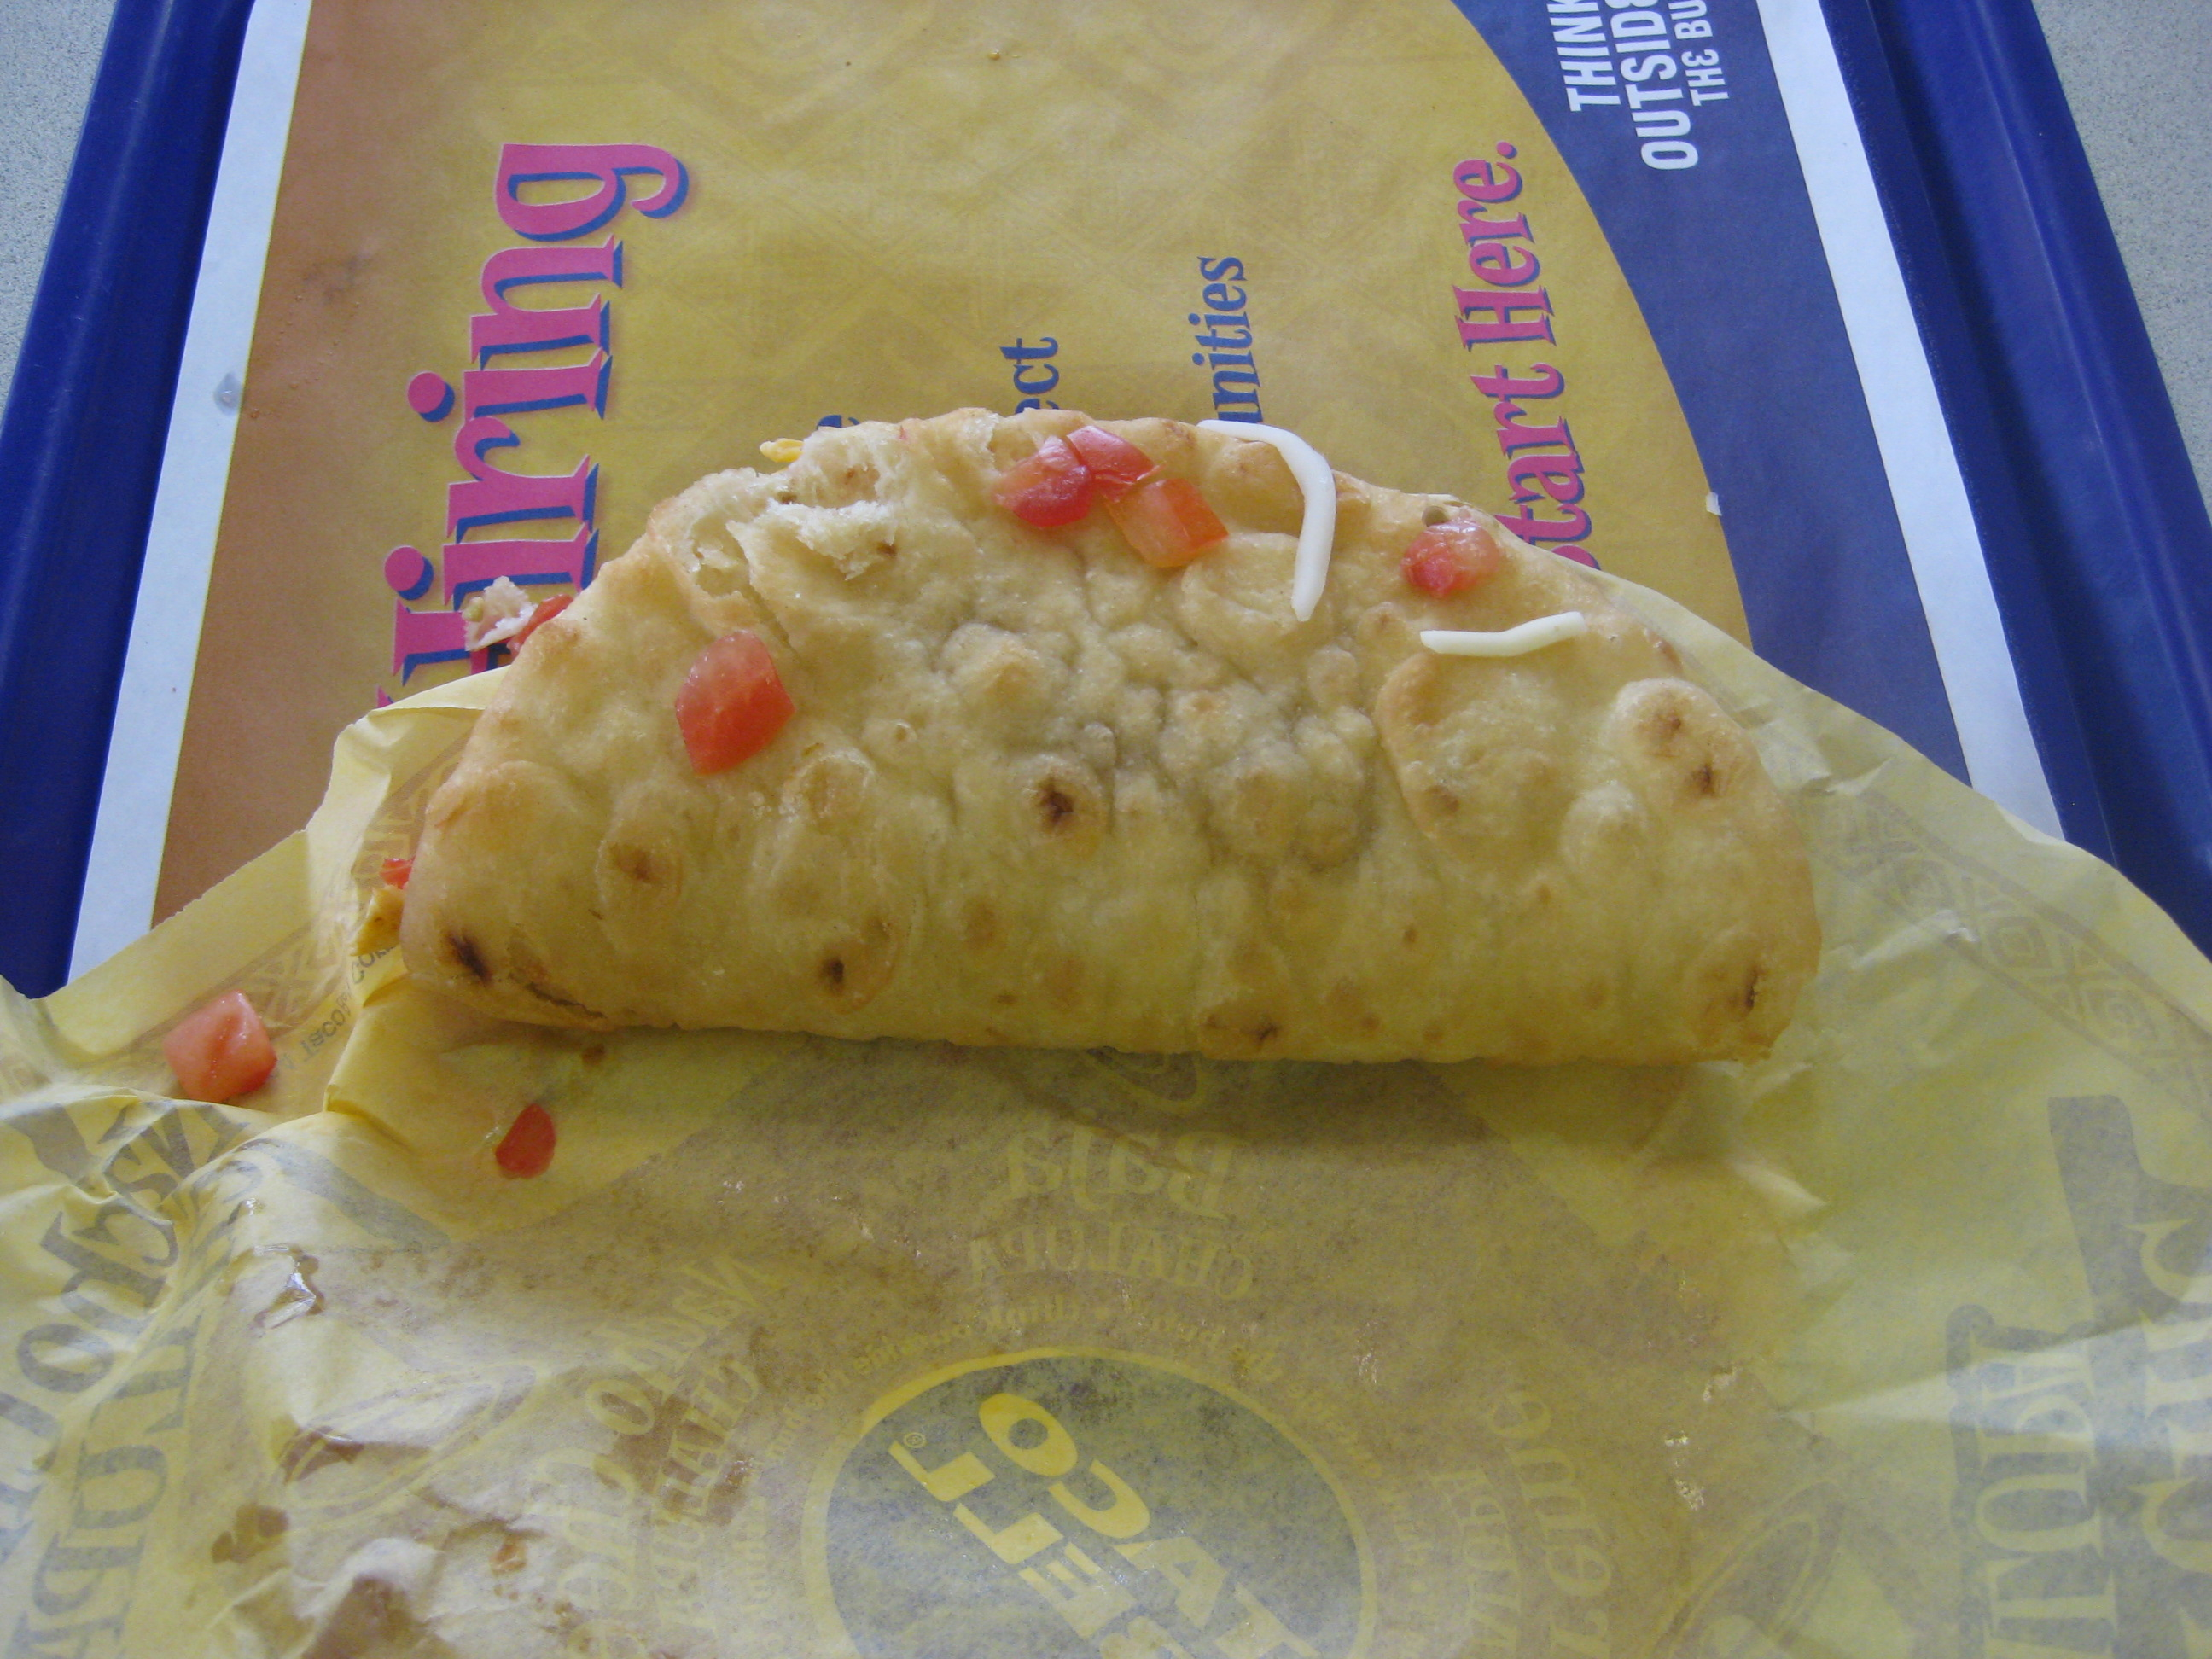taco: (356, 332, 1871, 1185)
